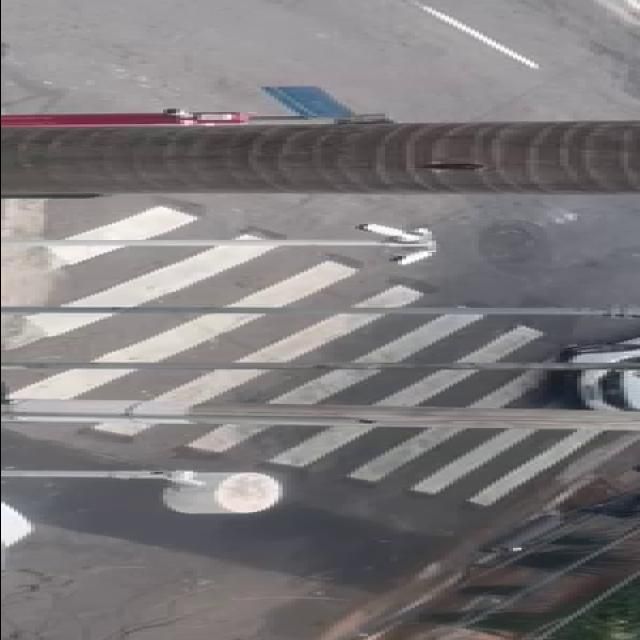car: (544, 339, 640, 424)
